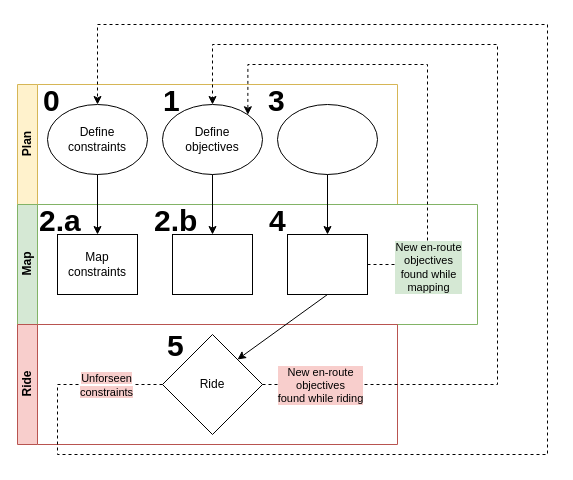
Some shapes in this 573 by 480 pixel diagram are drawn without their labels. The centre of each missing label's shape, as x and y in pixels:
"Map objectives" goes at (212,264).
"Map route" goes at (327,264).
"Plan route" goes at (327,139).
